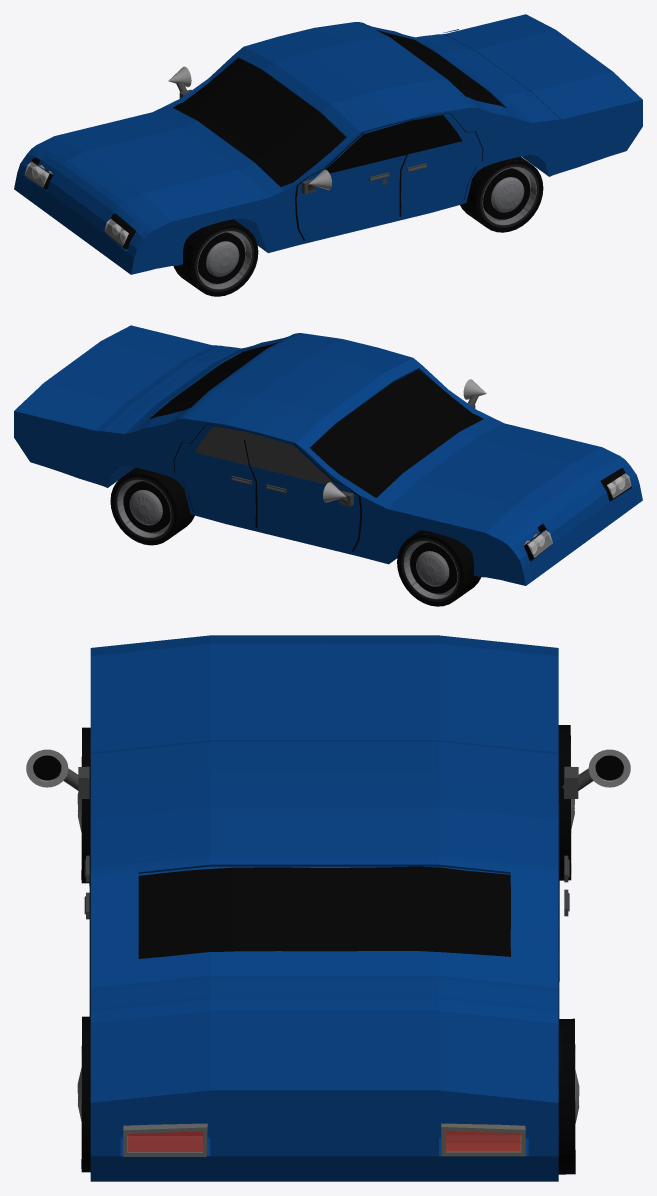
The model's file is car.glb.
3 renders of one model, top to bottom at view 1: azimuth 30°, elevation 25°; view 2: azimuth 150°, elevation 25°; view 3: azimuth 270°, elevation 25°, orthographic. The views are drawn at different scales.
Parts seen in each view (by area): view 1: Plane.001, Plane.004, Plane.006, Plane.003; view 2: Plane.001, Plane.004, Plane.007, Plane.008; view 3: Plane.001, Plane.004, Plane.007, Plane.008, Plane.003, Plane.006.
Part boxes in pixels (<box>): Plane.001: <box>14,14,642,274</box>; Plane.004: <box>24,29,506,249</box>; Plane.006: <box>173,219,258,296</box>; Plane.003: <box>460,156,543,232</box>; Plane.001: <box>14,325,642,585</box>; Plane.004: <box>78,342,631,560</box>; Plane.007: <box>110,467,194,545</box>; Plane.008: <box>397,530,481,606</box>; Plane.001: <box>89,635,559,1181</box>; Plane.004: <box>26,749,630,1156</box>; Plane.007: <box>558,1018,579,1174</box>; Plane.008: <box>558,725,574,880</box>; Plane.003: <box>77,1016,90,1172</box>; Plane.006: <box>77,727,90,883</box>.
Size of the model in its own units: 22.23 by 5.89 by 11.33.
24 materials, 16 textured.
